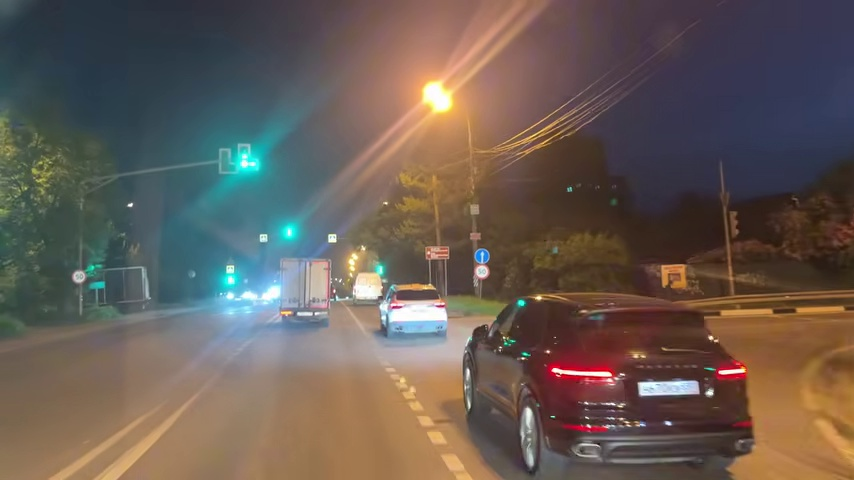acesa: (417, 78, 459, 118)
